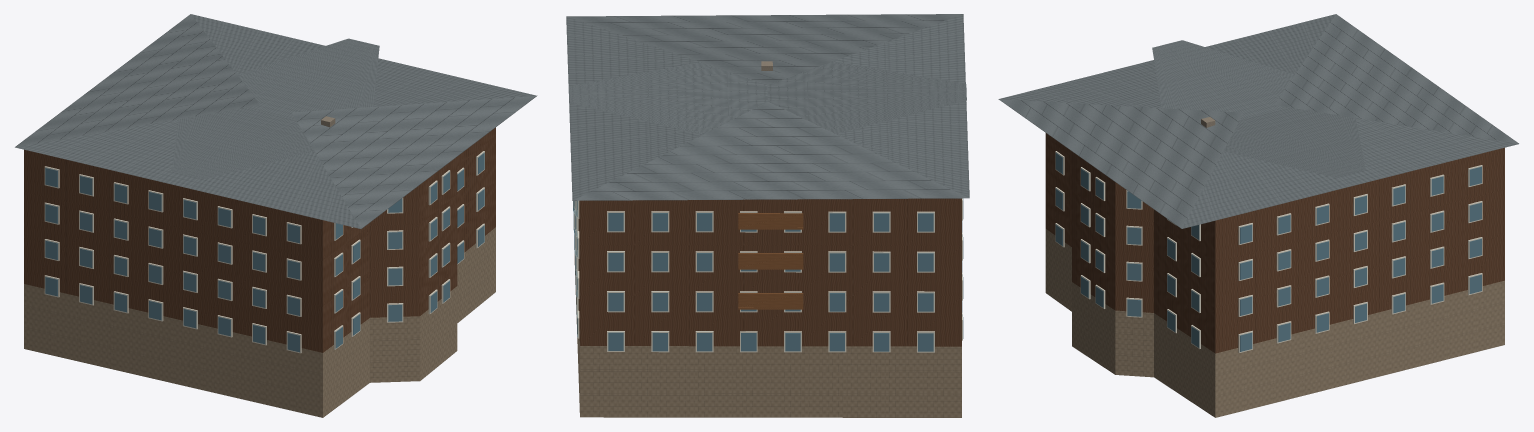
Rendered from core_0017.gltf.
3 renders of one model, left to right at view 1: azimuth 30°, elevation 25°; view 2: azimuth 150°, elevation 25°; view 3: azimuth 270°, elevation 25°, orthographic. The views are drawn at different scales.
Parts seen in each view (by area): view 1: core_0017; view 2: core_0017; view 3: core_0017.
Part boxes in pixels (x1,y1,x2,y2): core_0017: (15,14,537,417); core_0017: (566,14,969,417); core_0017: (998,14,1518,417).
Size of the model in its own units: 36.54 by 17.05 by 37.42.
Materials: 7 (7 with a texture image).
